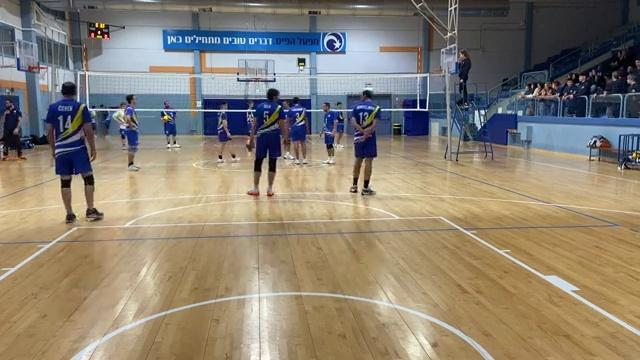ball: (161, 114, 171, 125)
